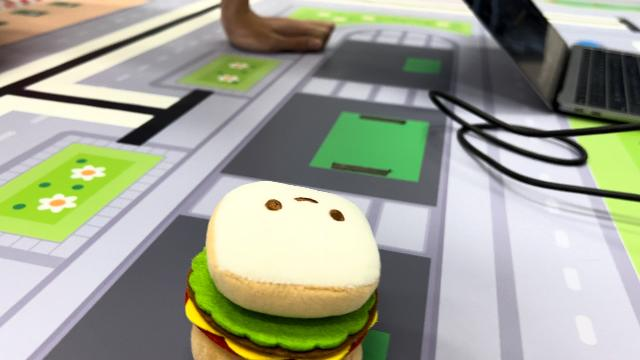sandwich: (182, 178, 384, 358)
